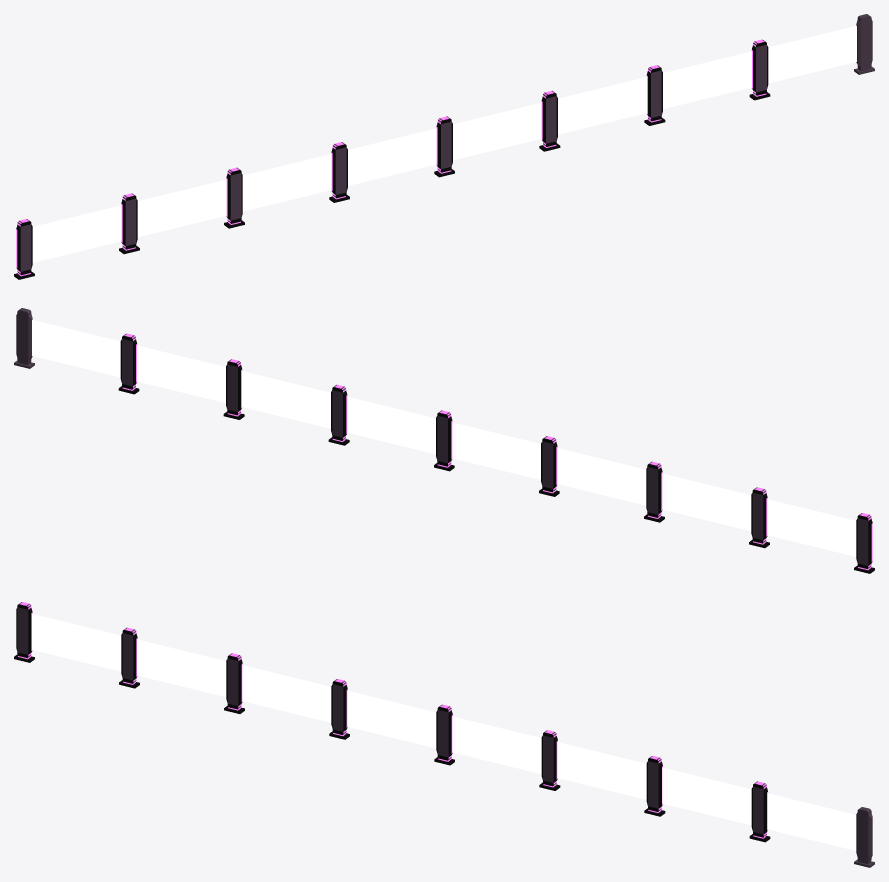
File: Fence.fbx
The picture shows the model from 3 angles, top to bottom: view 1: azimuth 30°, elevation 25°; view 2: azimuth 150°, elevation 25°; view 3: azimuth 330°, elevation 25°; orthographic projection.
Parts seen in each view (by area): view 1: Plane.001; view 2: Plane.001; view 3: Plane.001.
Boxes of the visible parts, box(x1,y1,x2,y2) form: Plane.001: box(14, 14, 874, 279); Plane.001: box(14, 308, 874, 573); Plane.001: box(14, 602, 874, 867).
Bounding box in the file's own units: 24.33 × 1.5 × 0.2398.
